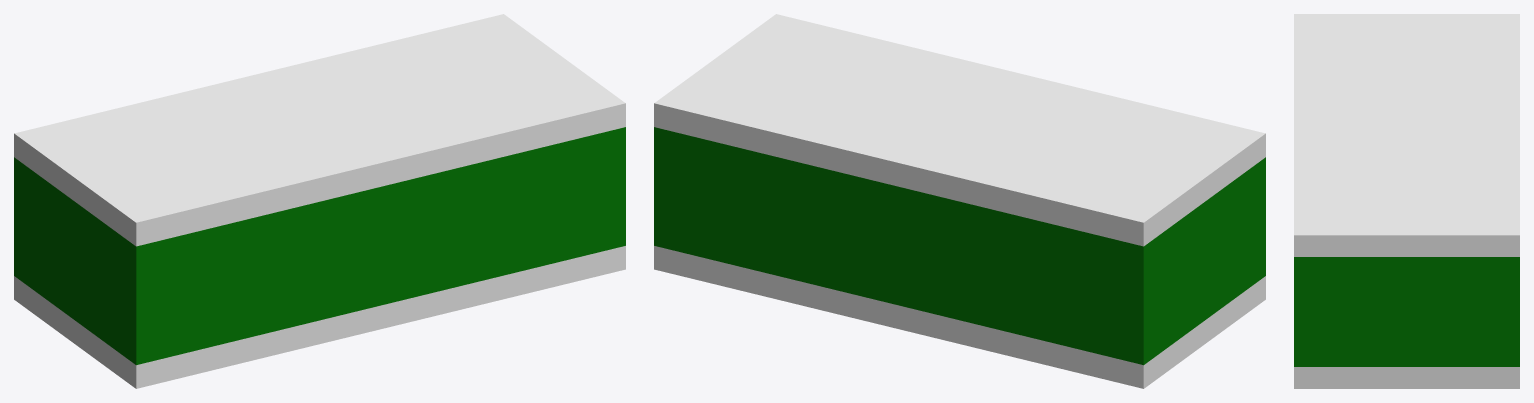
File: basement start 3-29.fbx
The picture shows the model from 3 angles, left to right: view 1: azimuth 30°, elevation 25°; view 2: azimuth 150°, elevation 25°; view 3: azimuth 270°, elevation 25°; orthographic projection. The views are drawn at different scales.
Parts seen in each view (by area): view 1: roof_2, outer walls_2, floor_2; view 2: roof_2, outer walls_2, floor_2; view 3: roof_2, outer walls_2, floor_2.
Boxes of the visible parts, <box> form: roof_2: <box>14,14,625,246</box>; outer walls_2: <box>14,127,625,365</box>; floor_2: <box>14,246,625,388</box>; roof_2: <box>654,14,1265,246</box>; outer walls_2: <box>654,127,1265,365</box>; floor_2: <box>654,246,1265,388</box>; roof_2: <box>1294,14,1519,256</box>; outer walls_2: <box>1294,257,1519,366</box>; floor_2: <box>1294,367,1519,388</box>.
Bounding box in the file's own units: 18.57 × 6.02 × 8.02.
